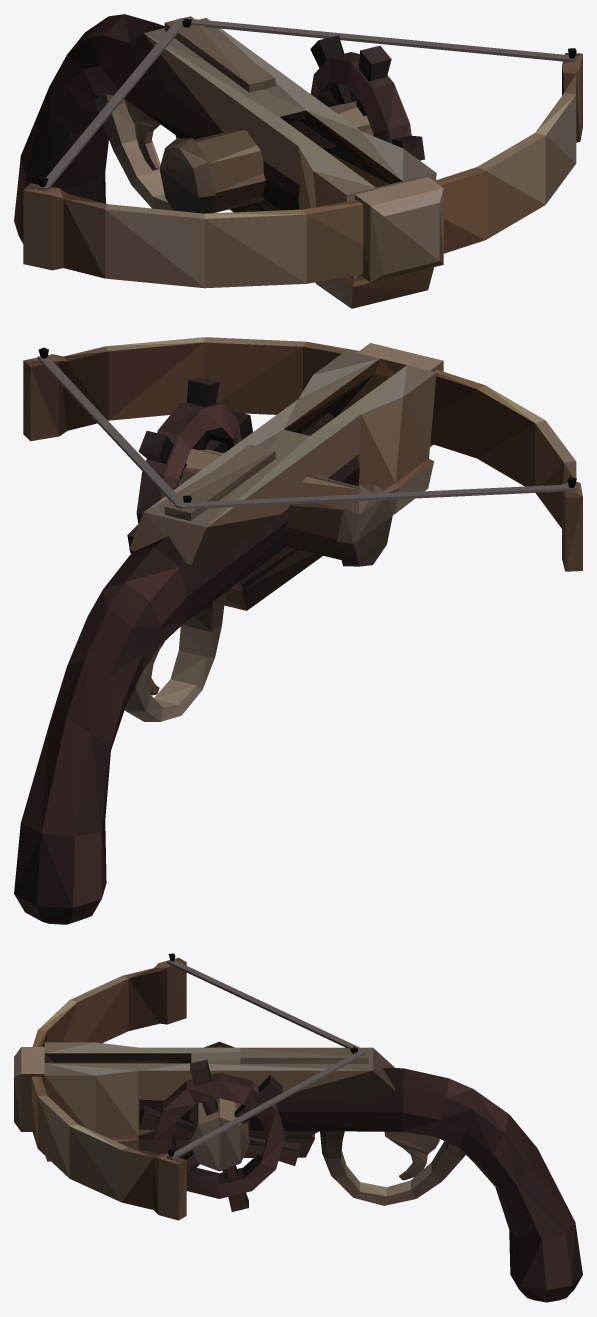
The model's file is weapon_crossbow_bronze_1.fbx.
The picture shows the model from 3 angles, top to bottom: view 1: azimuth 30°, elevation 25°; view 2: azimuth 150°, elevation 25°; view 3: azimuth 270°, elevation 25°; orthographic projection. The views are drawn at different scales.
Visible parts, largest first — view 1: weapon_crossbow_bronze_1; view 2: weapon_crossbow_bronze_1; view 3: weapon_crossbow_bronze_1.
Part boxes in pixels (<box>): weapon_crossbow_bronze_1: <box>14,14,582,308</box>; weapon_crossbow_bronze_1: <box>14,337,582,924</box>; weapon_crossbow_bronze_1: <box>14,953,582,1302</box>.
Bounding box in the file's own units: 0.8673 × 0.5151 × 1.01.
